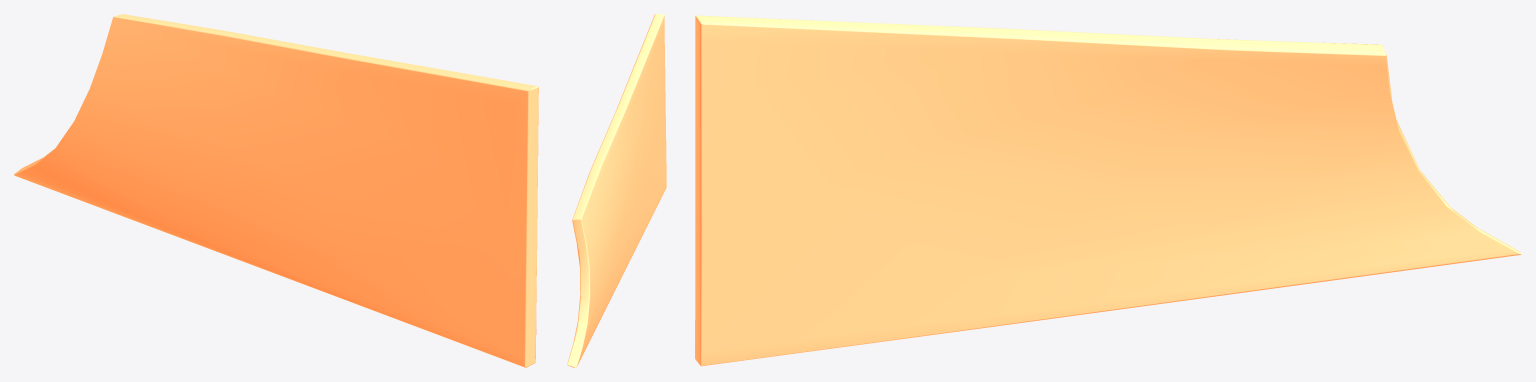
File: SM_Wall_Navigation.fbx
3 renders of one model, left to right at view 1: azimuth 30°, elevation 25°; view 2: azimuth 150°, elevation 25°; view 3: azimuth 270°, elevation 25°, orthographic. The views are drawn at different scales.
Visible parts, largest first — view 1: SM_Wall_Navigation_LOD0; view 2: SM_Wall_Navigation_LOD0; view 3: SM_Wall_Navigation_LOD0.
Boxes of the visible parts, x1,y1,x2,y2 form: SM_Wall_Navigation_LOD0: (14, 14, 538, 367); SM_Wall_Navigation_LOD0: (567, 14, 666, 367); SM_Wall_Navigation_LOD0: (695, 15, 1521, 366).
Size of the model in its own units: 270 by 774 by 361.
